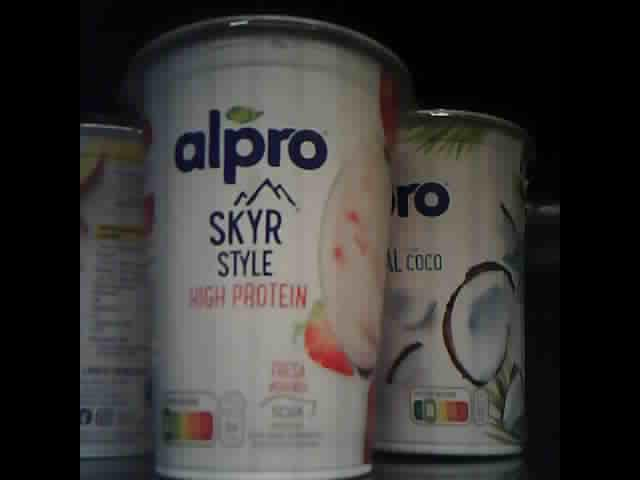alpro: (120, 12, 410, 480), (369, 107, 527, 457), (80, 109, 151, 469)
